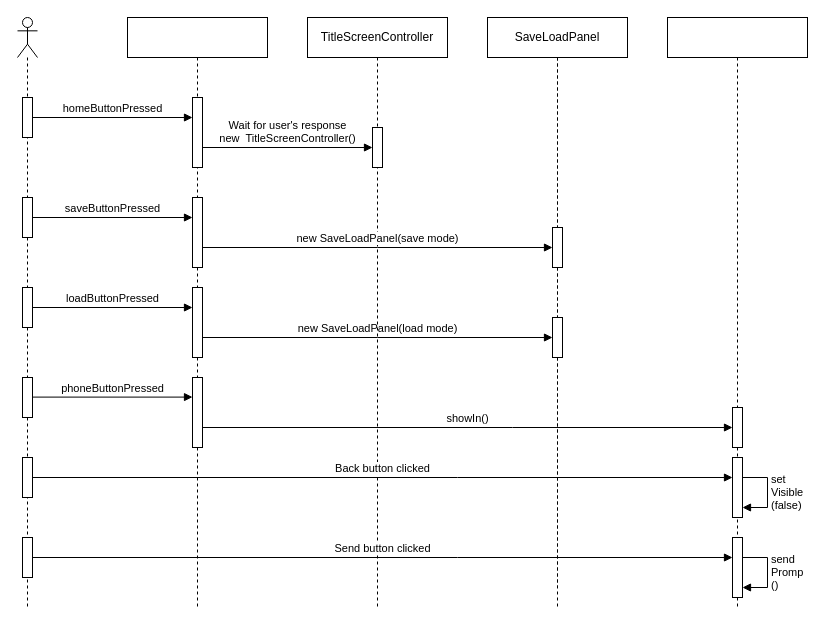
Some shapes in this 825 by 625 pixel diagram are drawn without their labels. Here are the shapes that lost their labels. From the top down, the box of each, then its label:
(126, 16, 268, 608): GameScreenController
(666, 16, 808, 608): PhonePanel
